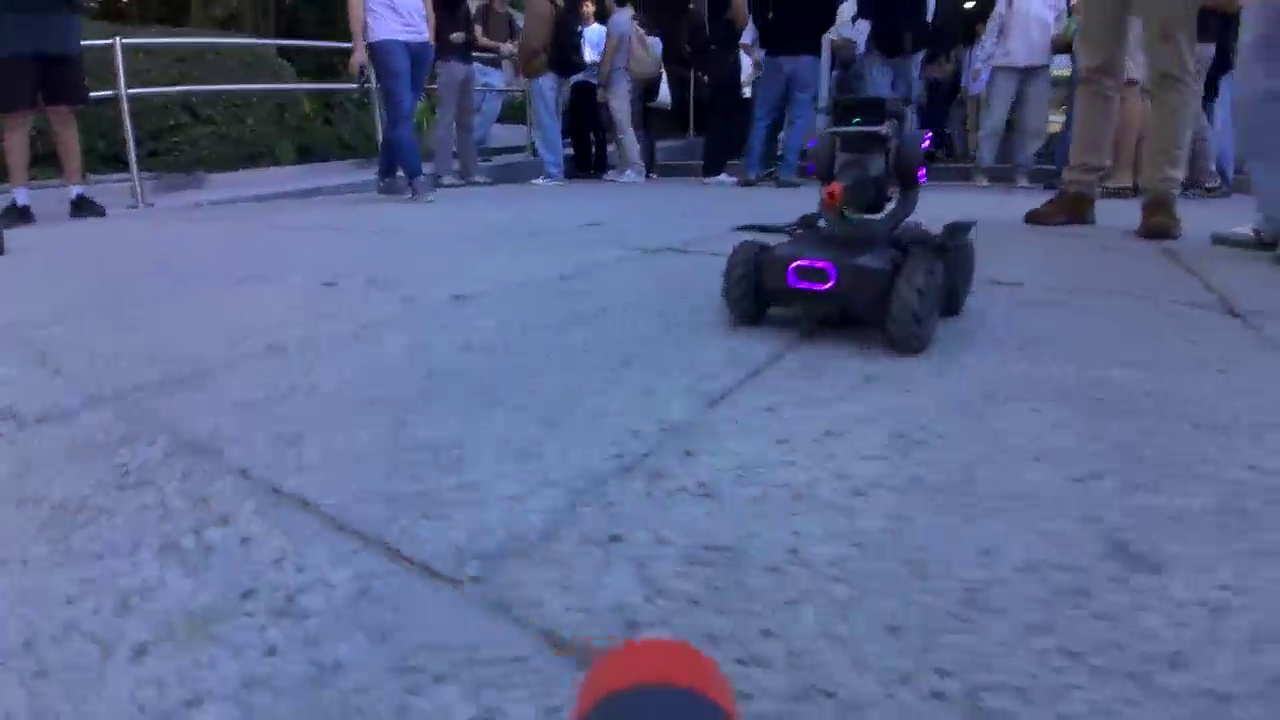robot: (722, 93, 982, 356)
